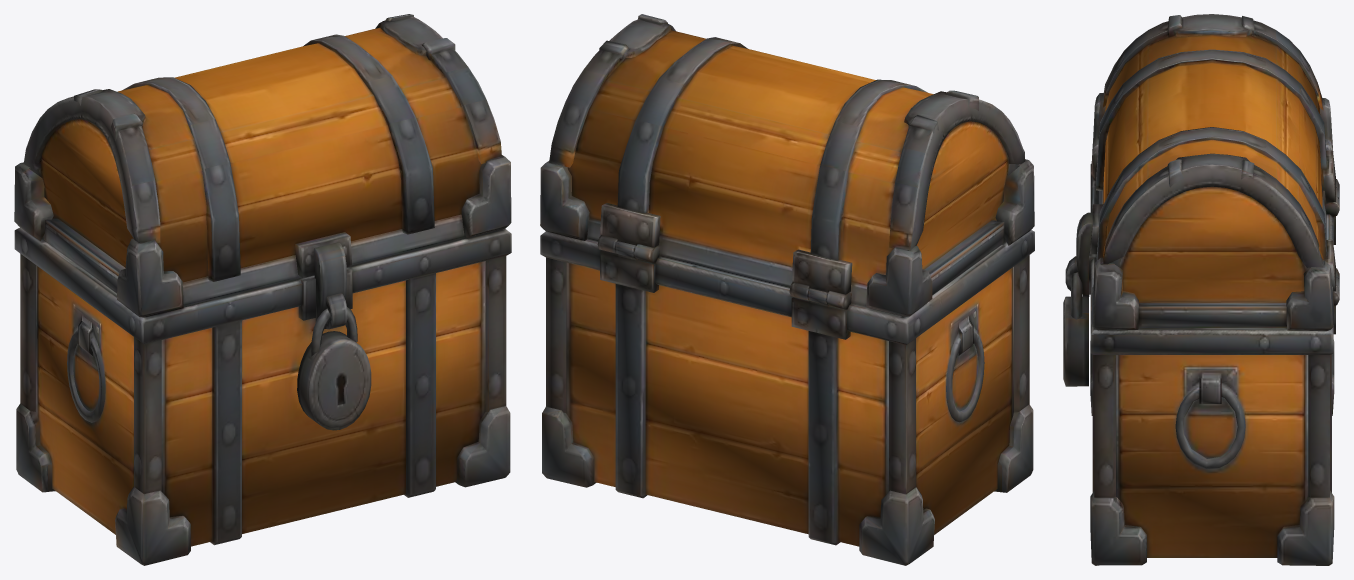
The model's file is SM_Prop_ChestCommon.glb.
3 renders of one model, left to right at view 1: azimuth 30°, elevation 25°; view 2: azimuth 150°, elevation 25°; view 3: azimuth 270°, elevation 25°, orthographic. The views are drawn at different scales.
Visible parts, largest first — view 1: SM_Prop_ChestCommon_LOD0; view 2: SM_Prop_ChestCommon_LOD0; view 3: SM_Prop_ChestCommon_LOD0.
Part boxes in pixels (bbox=[...]): SM_Prop_ChestCommon_LOD0: bbox=[14, 14, 511, 565]; SM_Prop_ChestCommon_LOD0: bbox=[540, 14, 1034, 565]; SM_Prop_ChestCommon_LOD0: bbox=[1063, 14, 1339, 565].
Bounding box in the file's own units: 0.8525 × 0.9 × 0.5737.
Materials: 1 (1 with a texture image).
